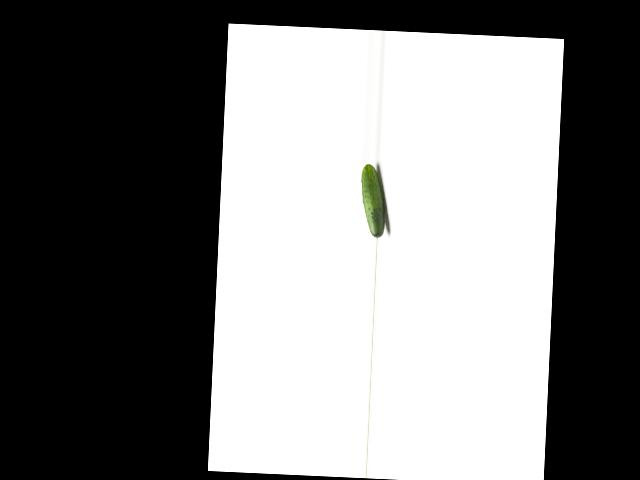cucumber: (358, 164, 388, 239)
